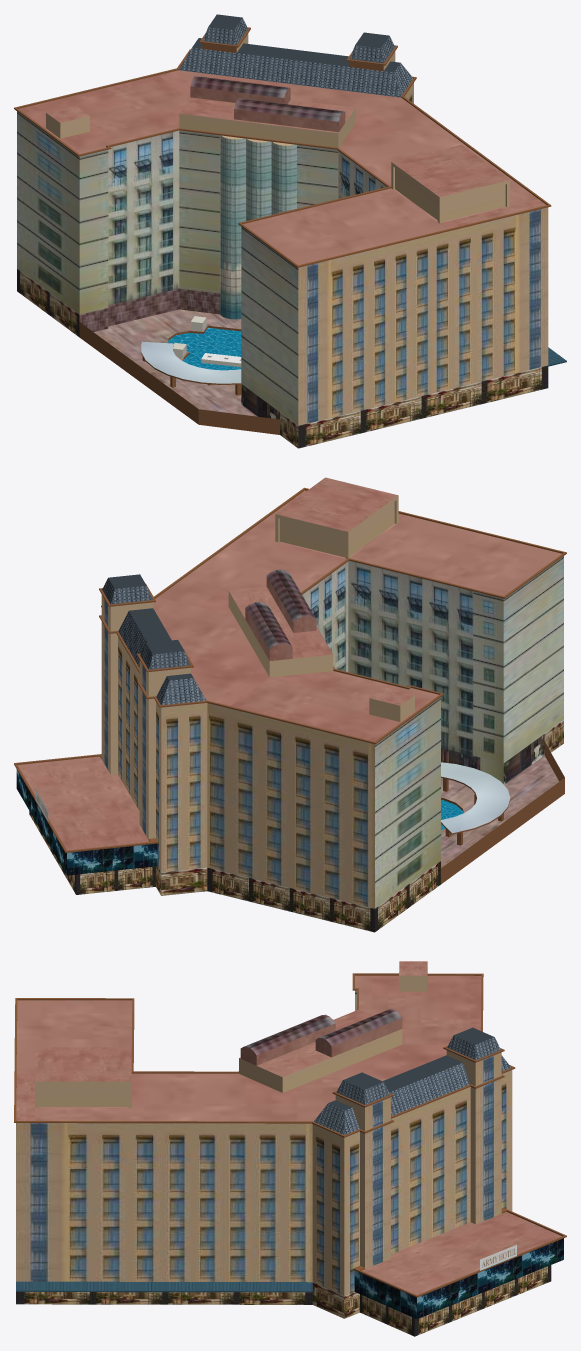
3 views of the same model, one above another, from view 1: azimuth 30°, elevation 25°; view 2: azimuth 150°, elevation 25°; view 3: azimuth 270°, elevation 25° (orthographic). The views are drawn at different scales.
Parts seen in each view (by area): view 1: HN137___Army_Hotel; view 2: HN137___Army_Hotel; view 3: HN137___Army_Hotel.
Boxes of the visible parts, box(x1,y1,x2,y2) form: HN137___Army_Hotel: box(14, 14, 566, 448); HN137___Army_Hotel: box(14, 477, 566, 932); HN137___Army_Hotel: box(14, 961, 566, 1336).
Size of the model in its own units: 61.4 by 34.1 by 76.98.
1 material, 1 textured.
